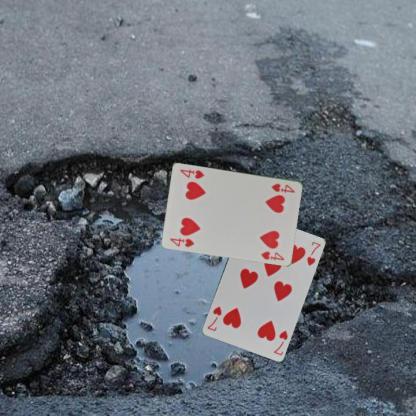4h: (167, 235, 196, 249), (268, 181, 296, 194)
7h: (271, 327, 289, 356)
